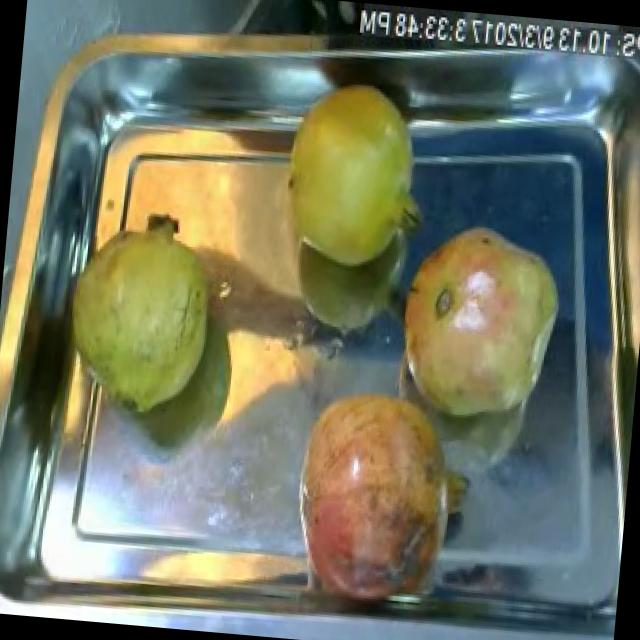fruit: (275, 365, 493, 624), (376, 207, 580, 443), (51, 198, 225, 430), (264, 67, 435, 284)
